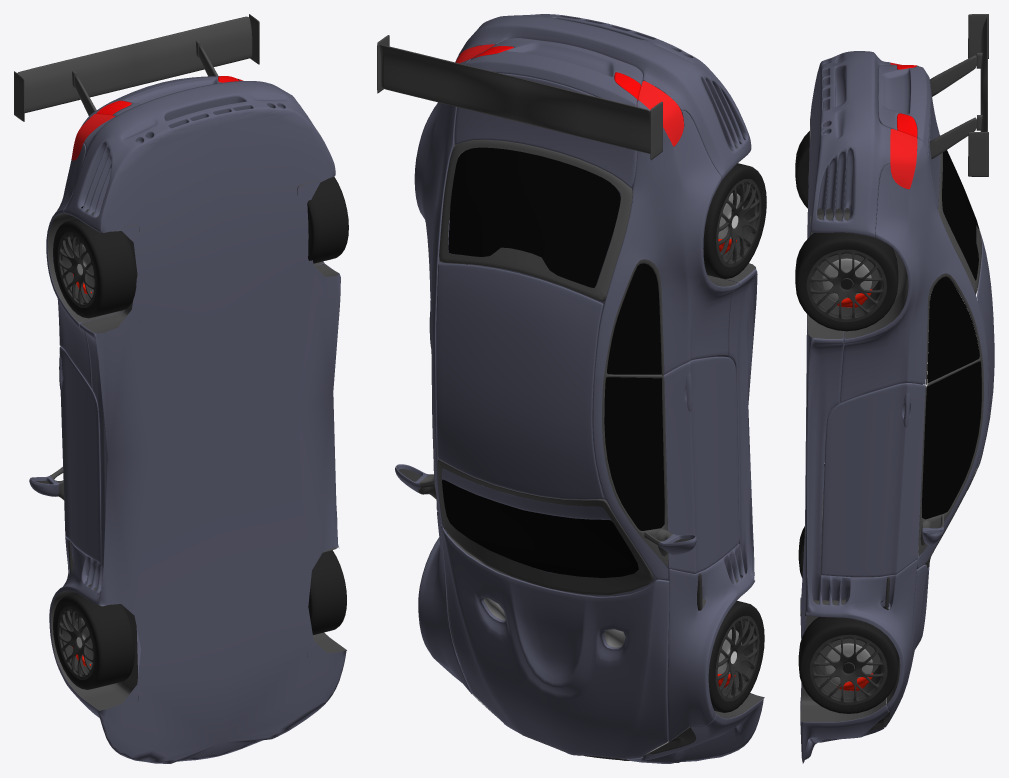
File: Sportcar.fbx
3 views of the same model, side by side, from view 1: azimuth 30°, elevation 25°; view 2: azimuth 150°, elevation 25°; view 3: azimuth 270°, elevation 25° (orthographic). The views are drawn at different scales.
Parts seen in each view (by area): view 1: Car_Body, spoiler, WheelRR, WheelFR, plastik_teile, WheelRL, WheelFL, RearLightLeft, MirrorLeft; view 2: Car_Body, Car_glass, plastik_teile, spoiler, WheelRR, WheelFR, RearLightLeft, MirrorLeft, MirrorRight; view 3: Car_Body, Car_glass, plastik_teile, WheelRL, WheelFL, spoiler, RearLightRight, BrakesRL, BrakesFL, WheelRR, MirrorRight.
Boxes of the visible parts, x1,y1,x2,y2 form: Car_Body: [46, 76, 346, 763]; spoiler: [14, 14, 259, 121]; WheelRR: [53, 218, 136, 318]; WheelFR: [53, 593, 135, 689]; plastik_teile: [48, 180, 345, 710]; WheelRL: [307, 176, 348, 263]; WheelFL: [308, 550, 346, 634]; RearLightLeft: [71, 100, 131, 160]; MirrorLeft: [29, 467, 63, 499]; Car_Body: [414, 14, 764, 763]; Car_glass: [442, 147, 664, 577]; plastik_teile: [431, 139, 763, 718]; spoiler: [377, 35, 662, 159]; WheelRR: [703, 163, 766, 278]; WheelFR: [708, 600, 764, 712]; RearLightLeft: [614, 72, 684, 146]; MirrorLeft: [644, 529, 696, 556]; MirrorRight: [395, 464, 437, 499]; Car_Body: [800, 51, 994, 763]; Car_glass: [922, 150, 981, 519]; plastik_teile: [800, 118, 983, 721]; WheelRL: [795, 232, 898, 331]; WheelFL: [798, 616, 898, 713]; spoiler: [929, 14, 988, 176]; RearLightRight: [890, 113, 917, 189]; BrakesRL: [821, 258, 871, 307]; BrakesFL: [824, 643, 872, 690]; WheelRR: [795, 131, 809, 208]; MirrorRight: [920, 514, 943, 545].
Bounding box in the file's own units: 2.72 × 6.56 × 1.77.
